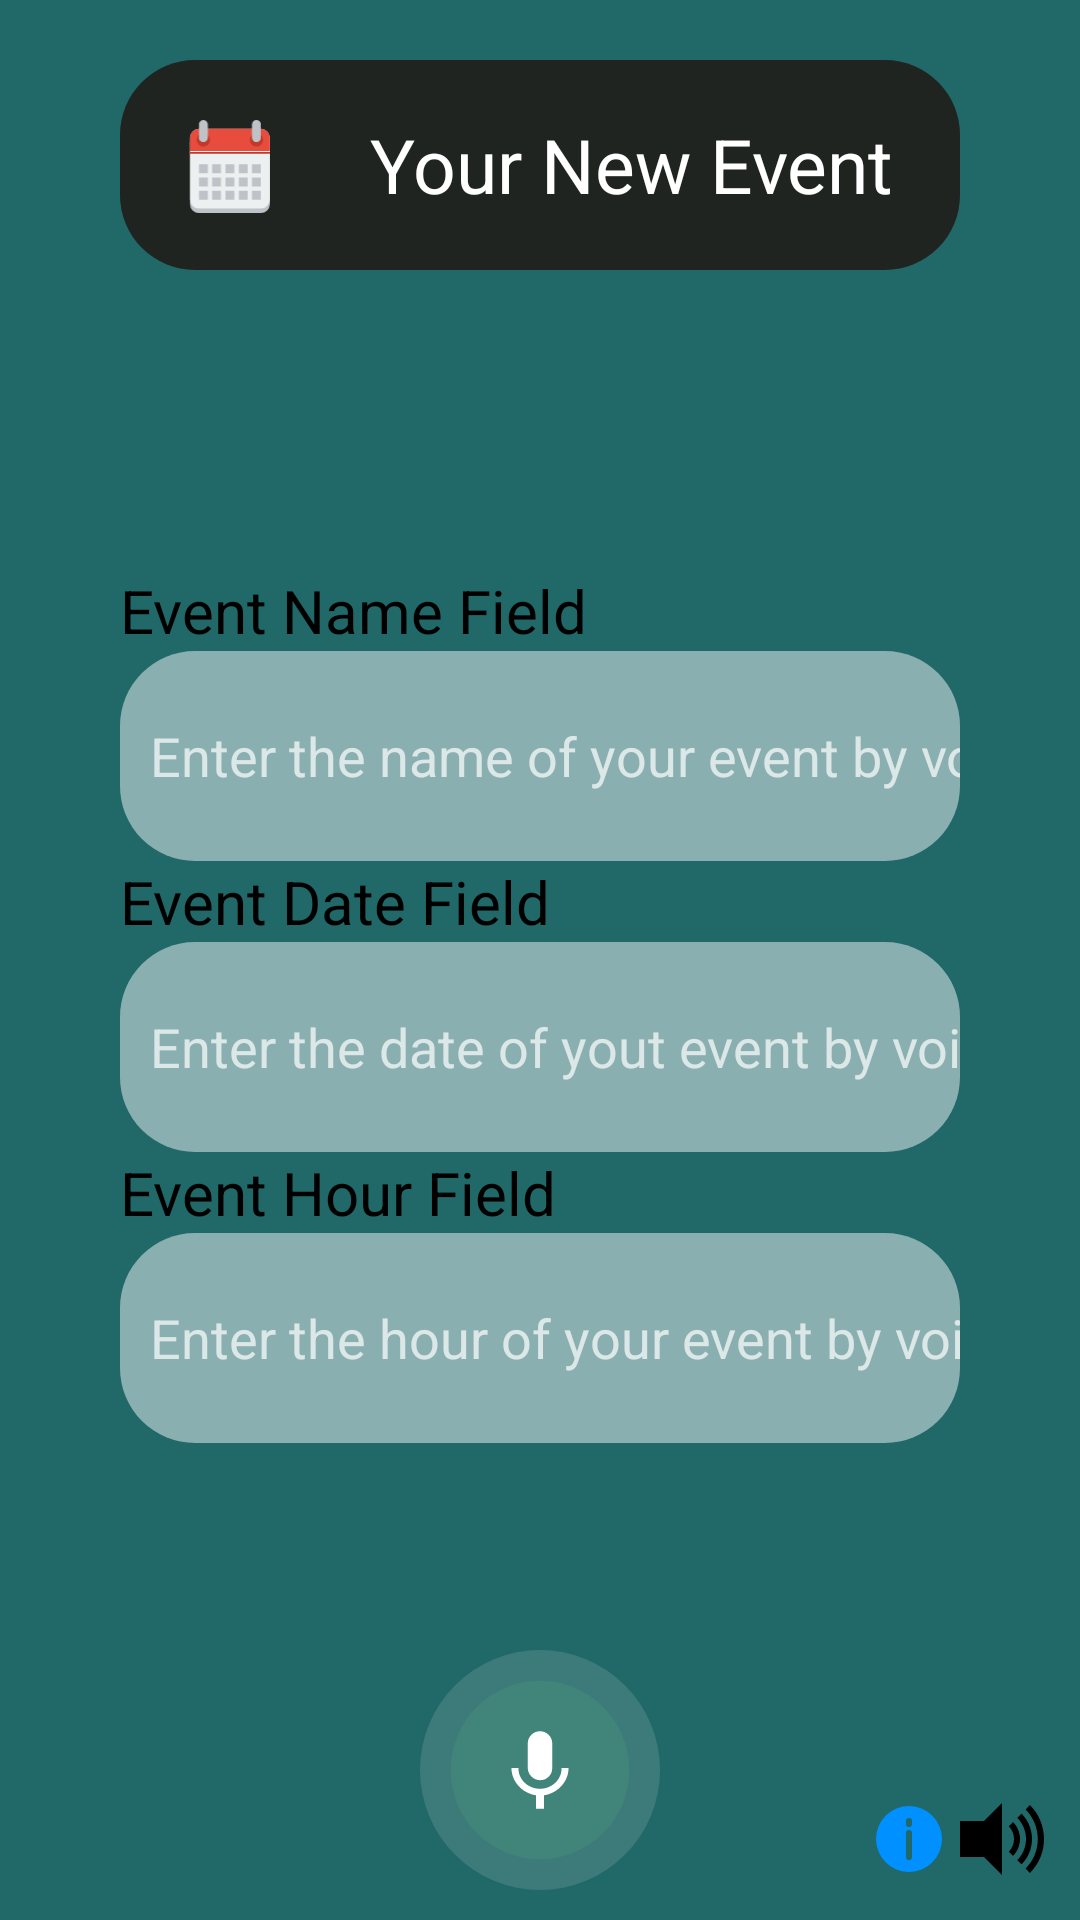

Where to tap for icons on this 1080 x 1920 app screen, as point (x, y):
calen: point (229, 166)
info: point (909, 1839)
micro: point (540, 1770)
speaker: point (1002, 1839)
